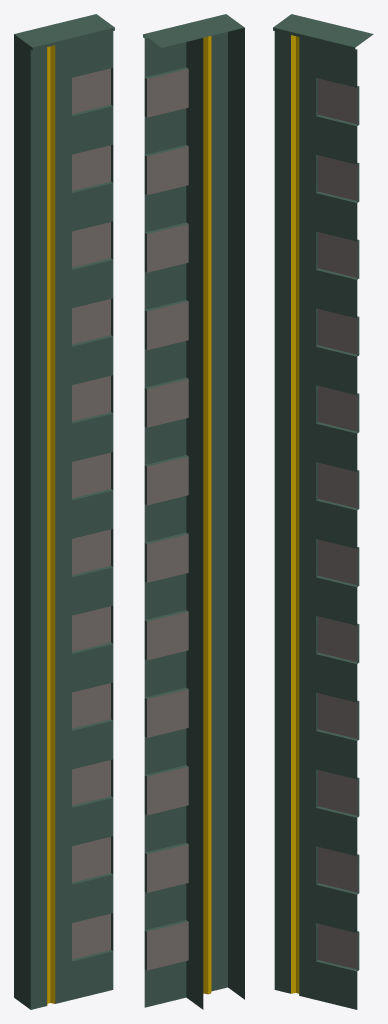
3 views of the same model, side by side, from view 1: azimuth 30°, elevation 25°; view 2: azimuth 210°, elevation 25°; view 3: azimuth 330°, elevation 25° (orthographic).
Parts seen in each view (by area): view 1: Column.027; view 2: Column.027; view 3: Column.027.
Boxes of the visible parts, x1,y1,x2,y2 form: Column.027: (14, 14, 114, 1009); Column.027: (143, 14, 244, 1009); Column.027: (273, 14, 373, 1009).
Size of the model in its own units: 557 by 6223 by 217.
